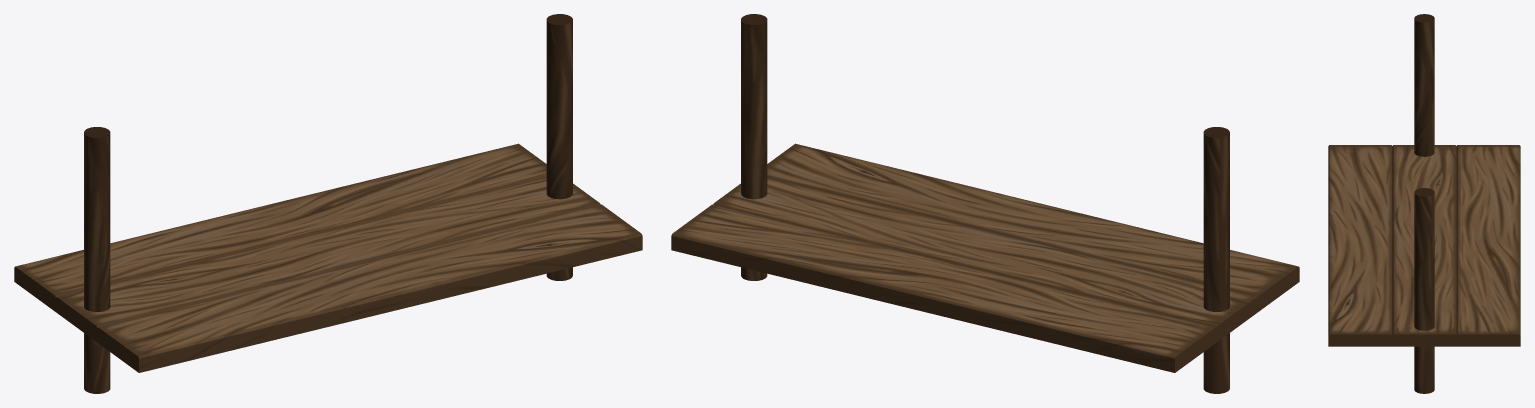
Rendered from Stand.fbx.
3 views of the same model, side by side, from view 1: azimuth 30°, elevation 25°; view 2: azimuth 150°, elevation 25°; view 3: azimuth 270°, elevation 25° (orthographic). The views are drawn at different scales.
Parts seen in each view (by area): view 1: Stand; view 2: Stand; view 3: Stand.
Part boxes in pixels (left/top/right/bottom): Stand: left=14, top=14, right=642, bottom=393; Stand: left=671, top=14, right=1299, bottom=393; Stand: left=1328, top=14, right=1520, bottom=393.
Size of the model in its own units: 10.88 by 5.29 by 4.66.
